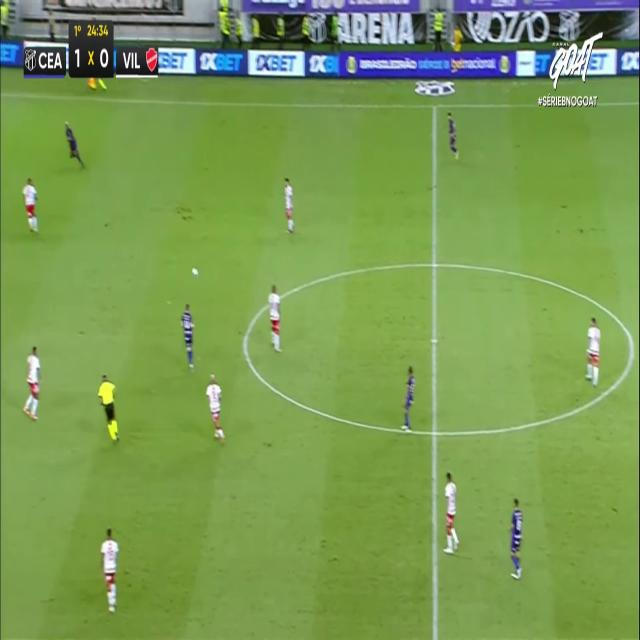ball: (190, 267, 198, 277)
player: (100, 528, 118, 612), (23, 344, 42, 419), (443, 471, 459, 552), (206, 373, 225, 441), (585, 316, 600, 386), (509, 497, 522, 577), (65, 121, 86, 170), (180, 303, 195, 371), (400, 365, 414, 432), (22, 176, 38, 232), (268, 284, 281, 351), (284, 176, 294, 232), (448, 111, 459, 160)
referee: (98, 373, 119, 443), (84, 75, 110, 93)
